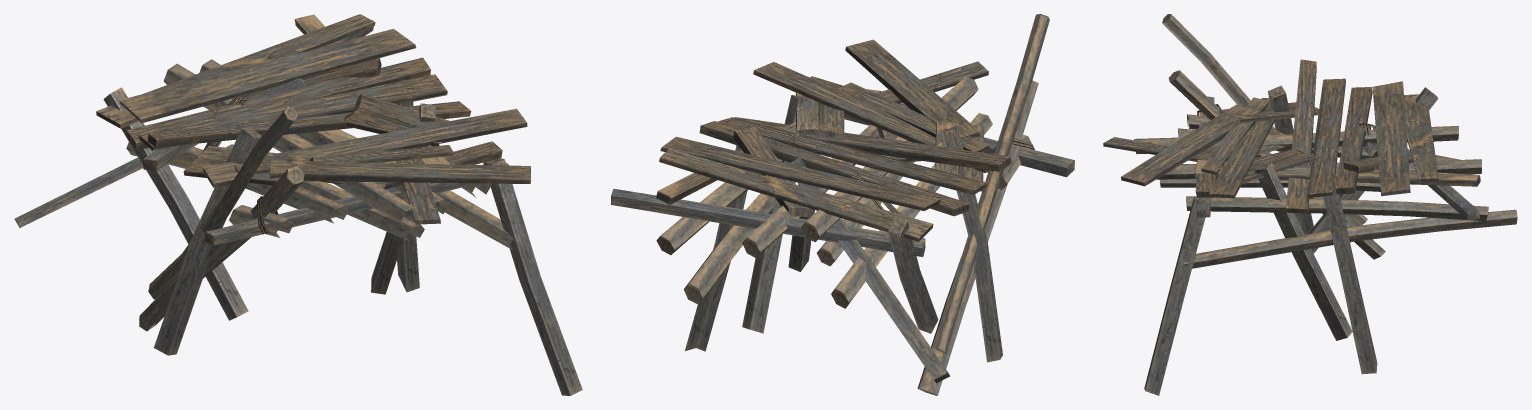
The model's file is 4008_Item_pomuban_2.FBX.
3 renders of one model, left to right at view 1: azimuth 30°, elevation 25°; view 2: azimuth 150°, elevation 25°; view 3: azimuth 270°, elevation 25°, orthographic. The views are drawn at different scales.
Parts seen in each view (by area): view 1: 4008_Item_pomuban_2; view 2: 4008_Item_pomuban_2; view 3: 4008_Item_pomuban_2.
Part boxes in pixels (x1,y1,x2,y2): 4008_Item_pomuban_2: (14, 14, 582, 395); 4008_Item_pomuban_2: (611, 14, 1074, 395); 4008_Item_pomuban_2: (1103, 14, 1517, 395).
Size of the model in its own units: 1976 by 1798 by 2443.
